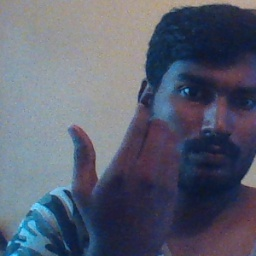U: (59, 96, 182, 235)
